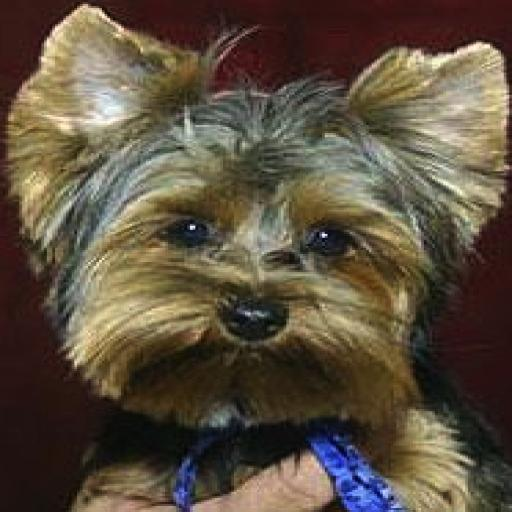dog_face: (29, 10, 494, 379)
